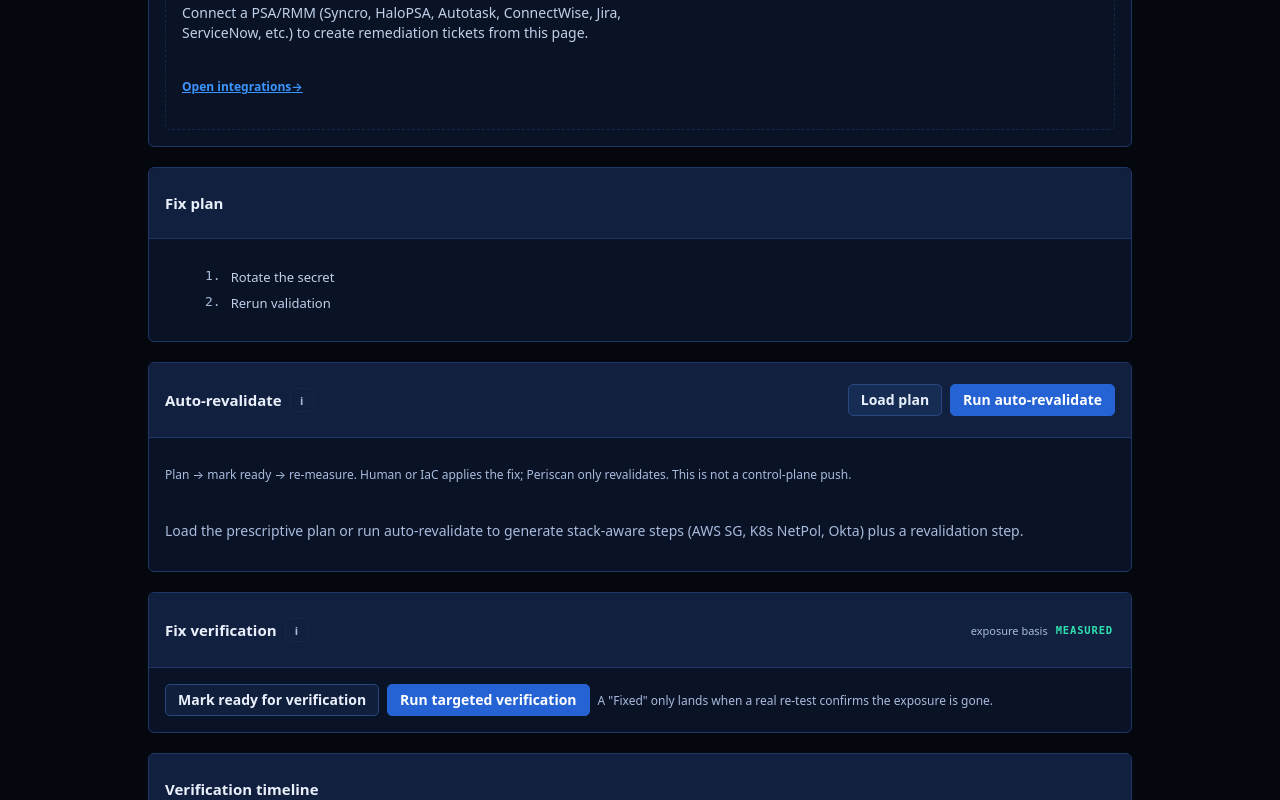
Test: RemediationDetail auto-revalidate honesty (O5) › exposes auto-revalidate CTA without customer-facing auto-mitigate copy
(page scrolled)
Expected: the element named "Auto-revalidate closed loop" is shown, x1=148 y1=362 x2=1132 y2=572
Expected: the text "This is not a control-plane push" is shown, x1=165 y1=466 x2=851 y2=484
Click the button "Run auto-revalidate": click(1033, 400) x1=950 y1=384 x2=1115 y2=416
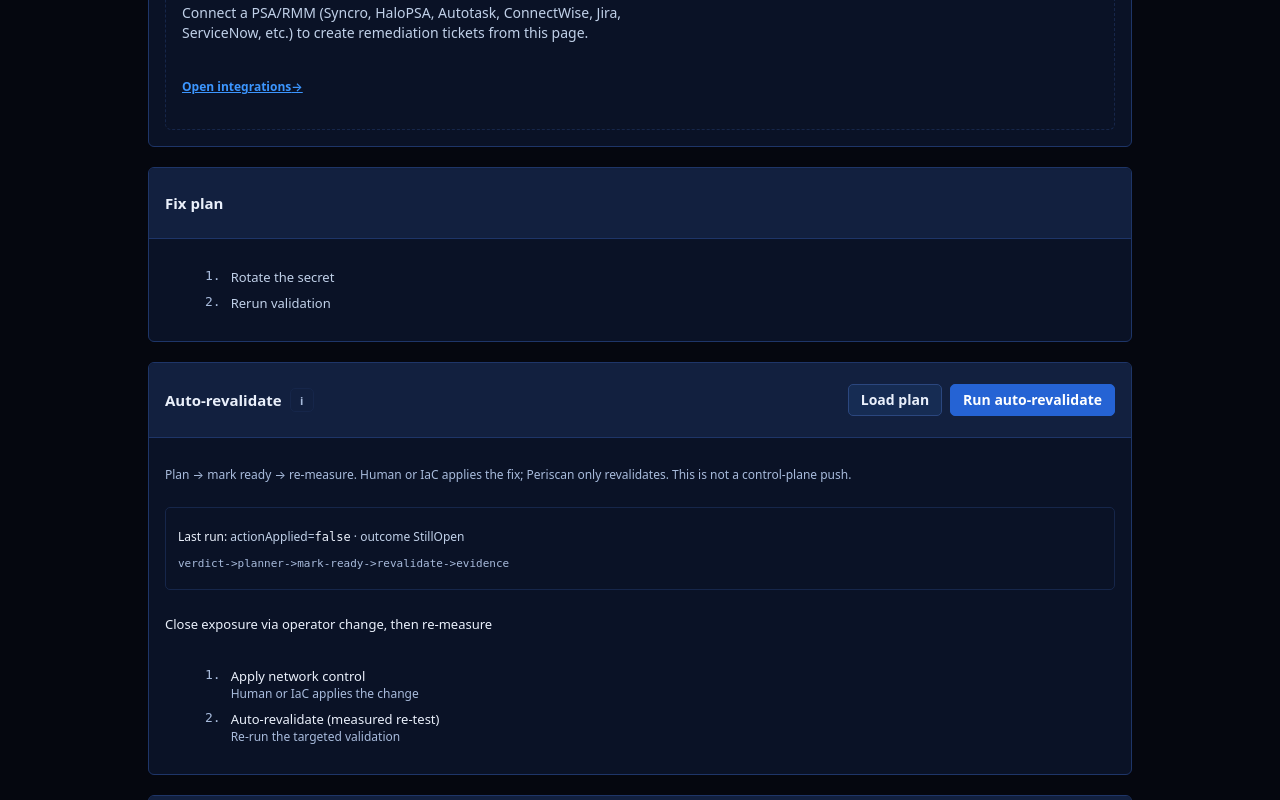
Result: the text "actionApplied=false" is shown at x1=178 y1=528 x2=464 y2=546
